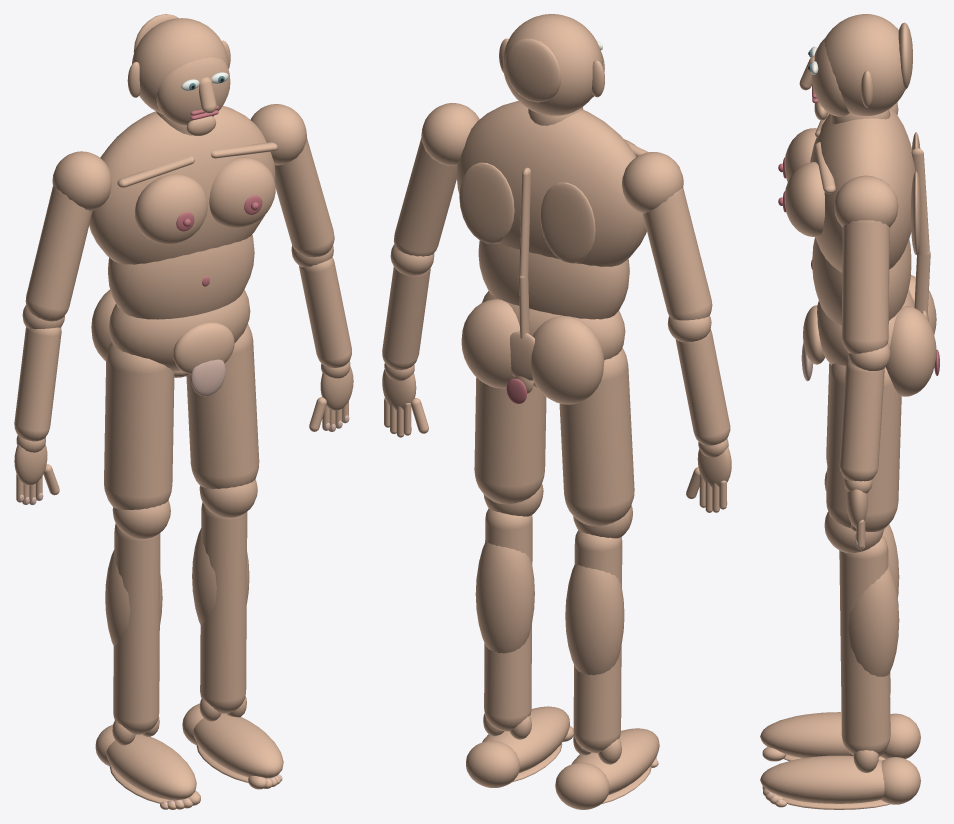
The model's file is body-erwachsener-divers-unbekannt-brueste-v2.glb.
3 renders of one model, left to right at view 1: azimuth 30°, elevation 25°; view 2: azimuth 150°, elevation 25°; view 3: azimuth 270°, elevation 25°, orthographic. The views are drawn at different scales.
Visible parts, largest first — view 1: zone__surface-chest, zone__surface-thigh-left, zone__surface-lower-leg-left, zone__surface-abdomen, zone__surface-lower-leg-right, zone__surface-thigh-right, zone__surface-upper-arm-left, zone__surface-scalp, zone__surface-pelvis, zone__surface-upper-arm-right, zone__surface-forearm-left, zone__surface-foot-right (+18 smaller); view 2: zone__surface-chest, zone__surface-thigh-left, zone__surface-thigh-right, zone__surface-abdomen, zone__surface-upper-arm-left, zone__surface-calf-right, zone__surface-calf-left, zone__surface-lower-leg-left, zone__surface-lower-leg-right, zone__surface-buttock-left, zone__surface-scalp, zone__surface-upper-arm-right (+21 smaller); view 3: zone__surface-chest, zone__surface-lower-leg-right, zone__surface-upper-arm-right, zone__surface-thigh-right, zone__surface-scalp, zone__surface-foot-right, zone__surface-forearm-right, zone__surface-calf-right, zone__surface-buttock-right, zone__surface-foot-left, zone__surface-abdomen, zone__surface-shoulder-right (+21 smaller).
Boxes of the visible parts, bbox=[...] form: zone__surface-chest: bbox=[89, 106, 275, 264]; zone__surface-thigh-left: bbox=[104, 342, 174, 509]; zone__surface-lower-leg-left: bbox=[113, 523, 160, 734]; zone__surface-abdomen: bbox=[108, 234, 254, 319]; zone__surface-lower-leg-right: bbox=[200, 502, 247, 713]; zone__surface-thigh-right: bbox=[186, 323, 259, 488]; zone__surface-upper-arm-left: bbox=[25, 186, 92, 321]; zone__surface-scalp: bbox=[132, 18, 228, 114]; zone__surface-pelvis: bbox=[109, 290, 250, 371]; zone__surface-upper-arm-right: bbox=[274, 137, 334, 257]; zone__surface-forearm-left: bbox=[14, 327, 61, 441]; zone__surface-foot-right: bbox=[193, 713, 283, 778]; zone__surface-chest: bbox=[456, 101, 646, 266]; zone__surface-thigh-left: bbox=[559, 348, 634, 526]; zone__surface-thigh-right: bbox=[474, 377, 546, 504]; zone__surface-abdomen: bbox=[478, 240, 629, 319]; zone__surface-upper-arm-left: bbox=[642, 188, 712, 320]; zone__surface-calf-right: bbox=[475, 542, 534, 653]; zone__surface-calf-left: bbox=[565, 564, 624, 675]; zone__surface-lower-leg-left: bbox=[573, 530, 622, 753]; zone__surface-lower-leg-right: bbox=[484, 508, 532, 731]; zone__surface-buttock-left: bbox=[531, 316, 604, 404]; zone__surface-scalp: bbox=[503, 14, 602, 115]; zone__surface-upper-arm-right: bbox=[394, 137, 456, 256]; zone__surface-chest: bbox=[810, 107, 915, 272]; zone__surface-lower-leg-right: bbox=[839, 535, 890, 754]; zone__surface-upper-arm-right: bbox=[841, 220, 889, 353]; zone__surface-thigh-right: bbox=[826, 363, 901, 531]; zone__surface-scalp: bbox=[824, 14, 905, 115]; zone__surface-foot-right: bbox=[760, 755, 884, 803]; zone__surface-forearm-right: bbox=[839, 359, 884, 481]; zone__surface-calf-right: bbox=[848, 566, 899, 676]; zone__surface-buttock-right: bbox=[885, 306, 936, 396]; zone__surface-foot-left: bbox=[760, 712, 883, 758]; zone__surface-abdomen: bbox=[812, 237, 911, 325]; zone__surface-shoulder-right: bbox=[834, 175, 898, 227].
Size of the model in its own units: 0.816 by 1.72 by 0.3683.
